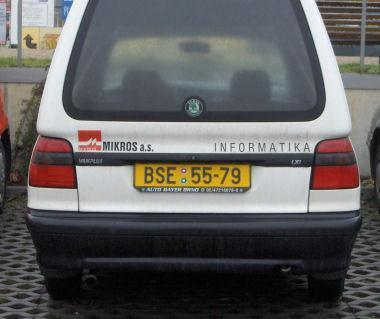placa de veiculo: (122, 155, 263, 206)
